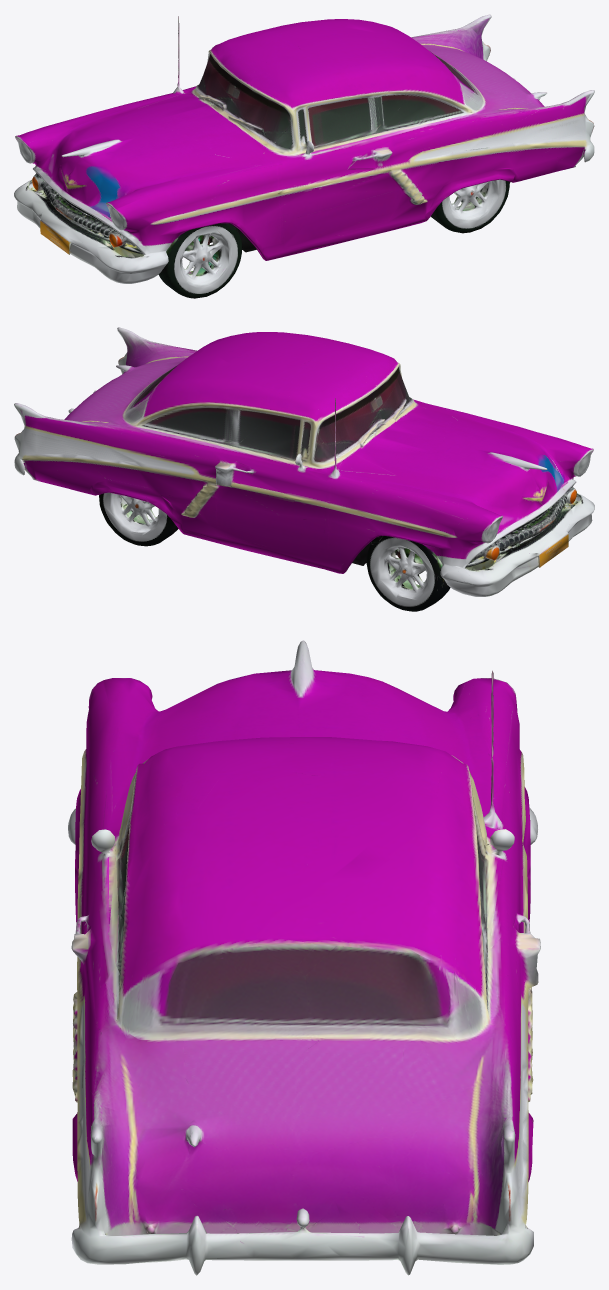
Rendered from lowrider.glb.
3 views of the same model, one above another, from view 1: azimuth 30°, elevation 25°; view 2: azimuth 150°, elevation 25°; view 3: azimuth 270°, elevation 25° (orthographic). The views are drawn at different scales.
Bounding box in the file's own units: 1.91 × 0.7154 × 0.7996.
Materials: 1 (1 with a texture image).
